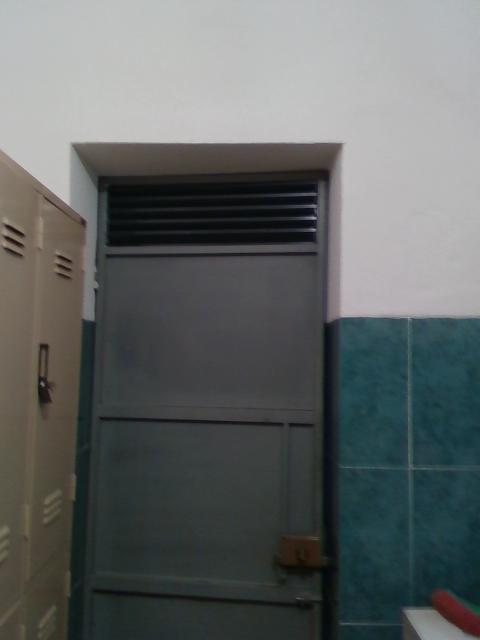door: (83, 168, 327, 640)
